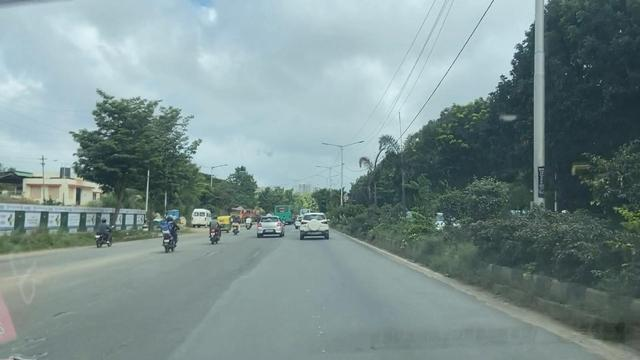LMV: (295, 209, 331, 241), (251, 210, 285, 241), (160, 213, 183, 254), (94, 213, 117, 251), (207, 213, 225, 248)
RoadDamages: (8, 295, 86, 329)
